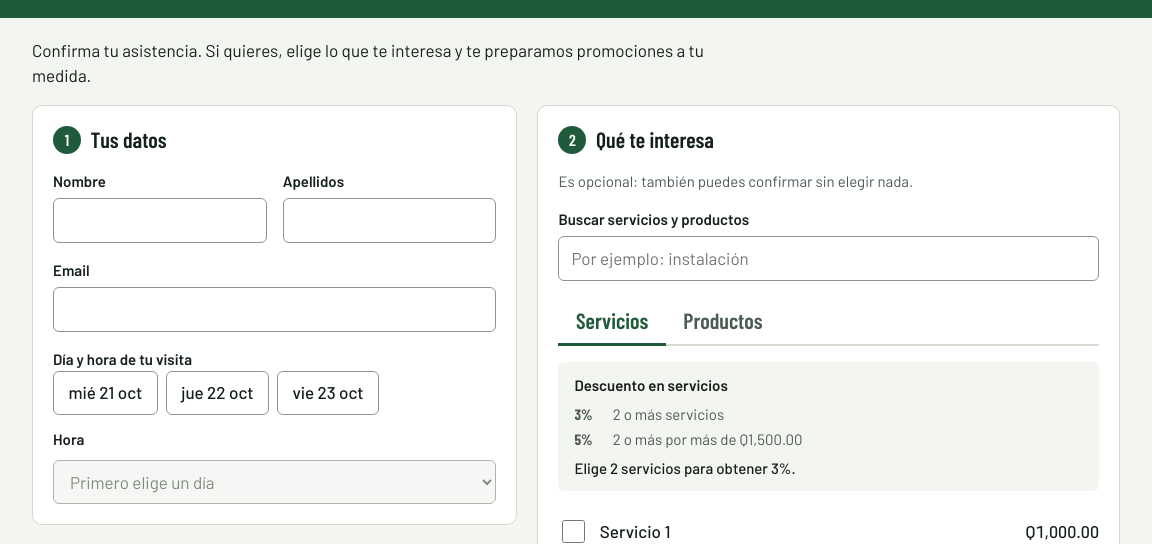
Test: validation › lets the person confirm without choosing any service or product
Type "Ana" into the field labelled "Nombre".
click(160, 220); type("Ana")  # box top-left (53, 198), bottom-right (267, 243)
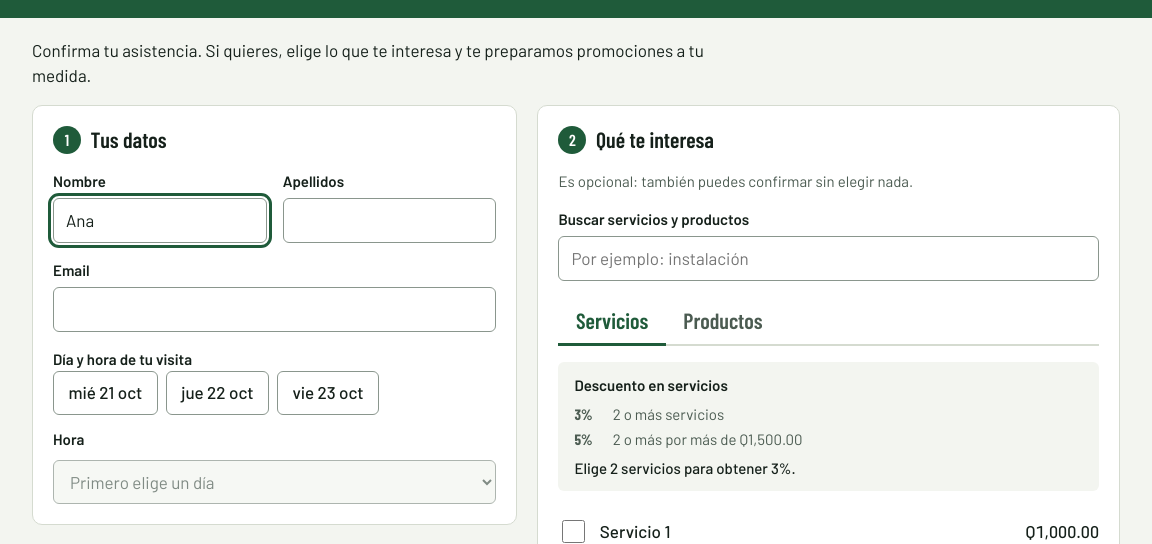
Type "Lopez" into the field labelled "Apellidos".
click(390, 220); type("Lopez")  # box top-left (283, 198), bottom-right (496, 243)
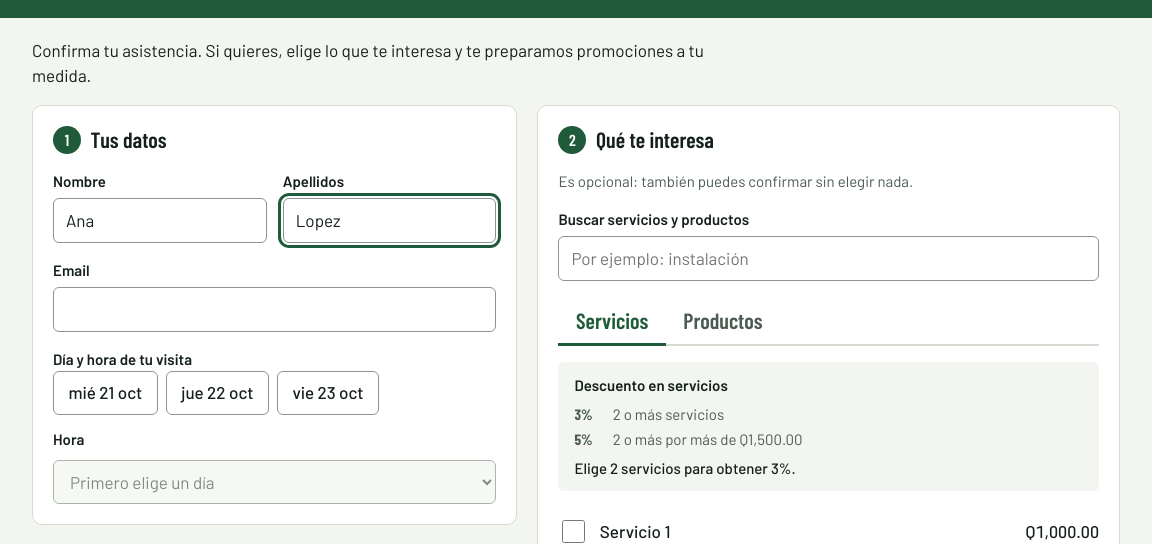
Type "ana@example.com" into the field labelled "Email".
click(275, 310); type("ana@example.com")  # box top-left (53, 287), bottom-right (496, 332)
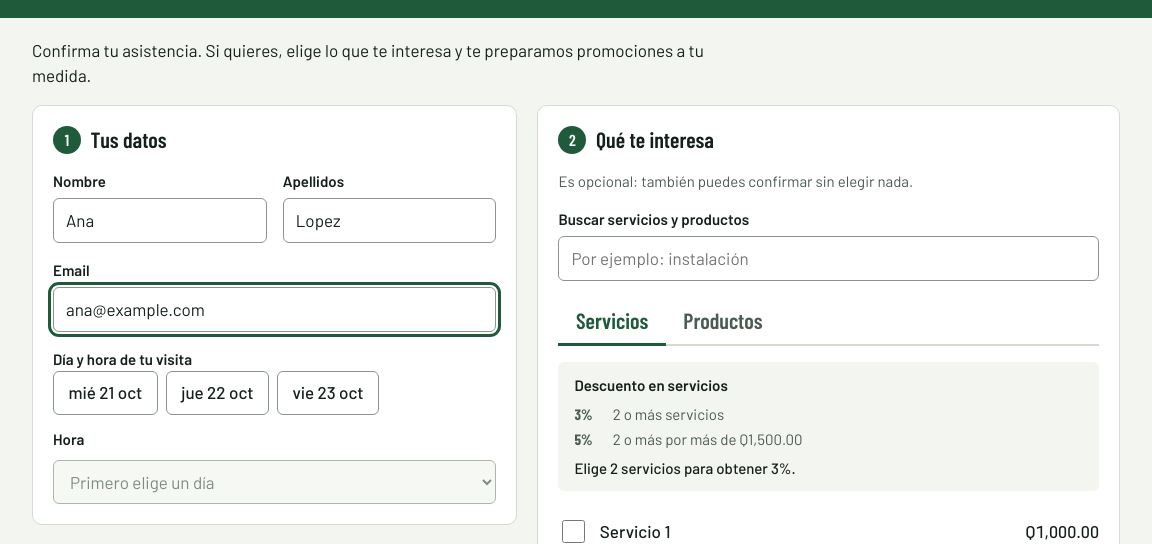
Click the 1st radio button.
click(105, 393)  # box top-left (53, 371), bottom-right (158, 415)
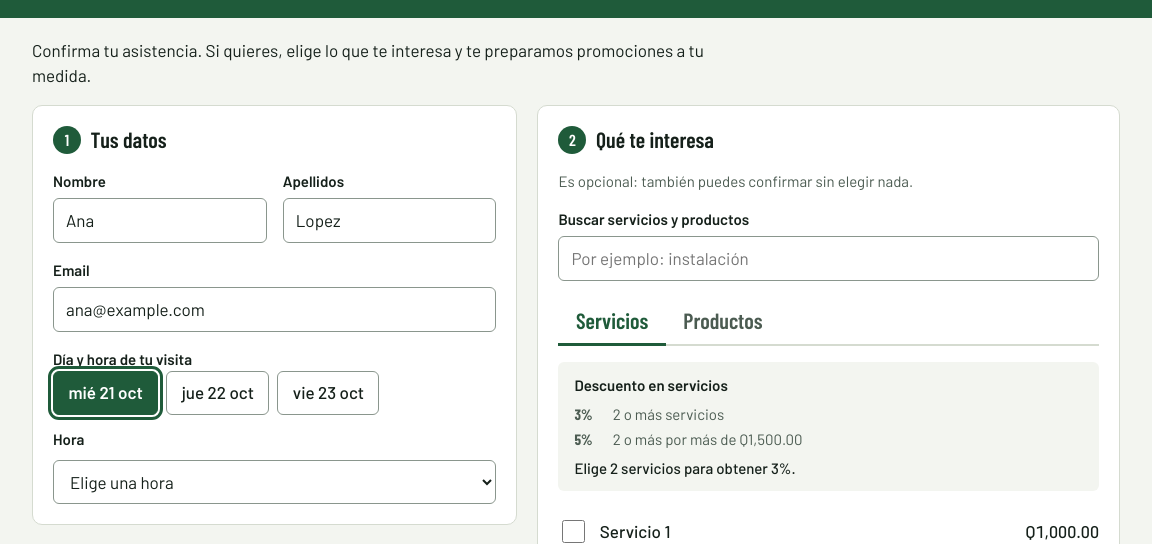
Select "10:00" in the dropdown labelled "Hora" at (275, 482), box top-left (53, 460), bottom-right (496, 504)
(page scrolled)
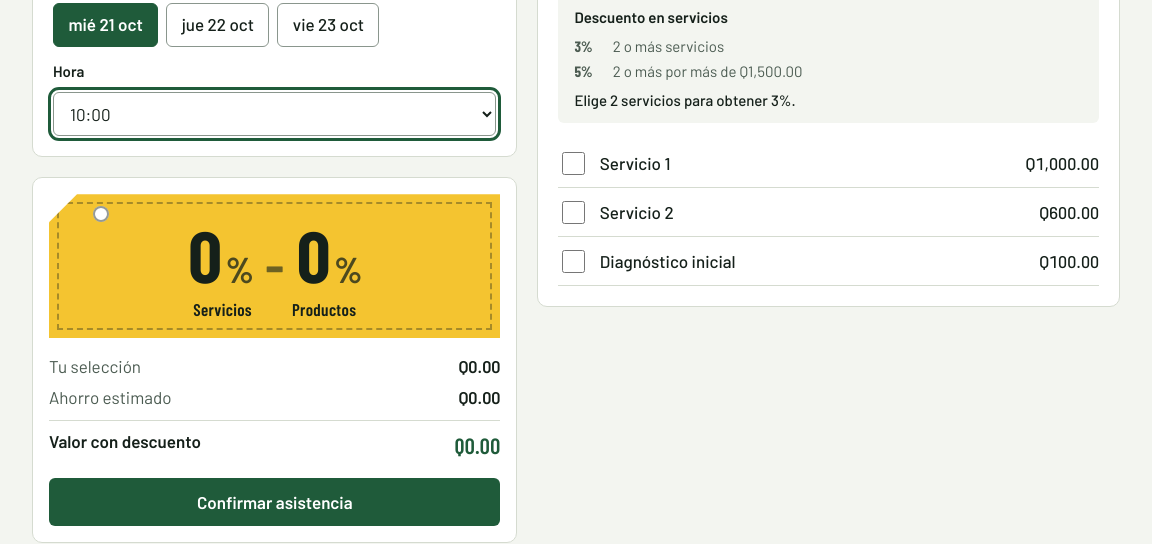
Click the button "Confirmar asistencia".
click(275, 502)  # box top-left (49, 478), bottom-right (500, 526)
(page scrolled)
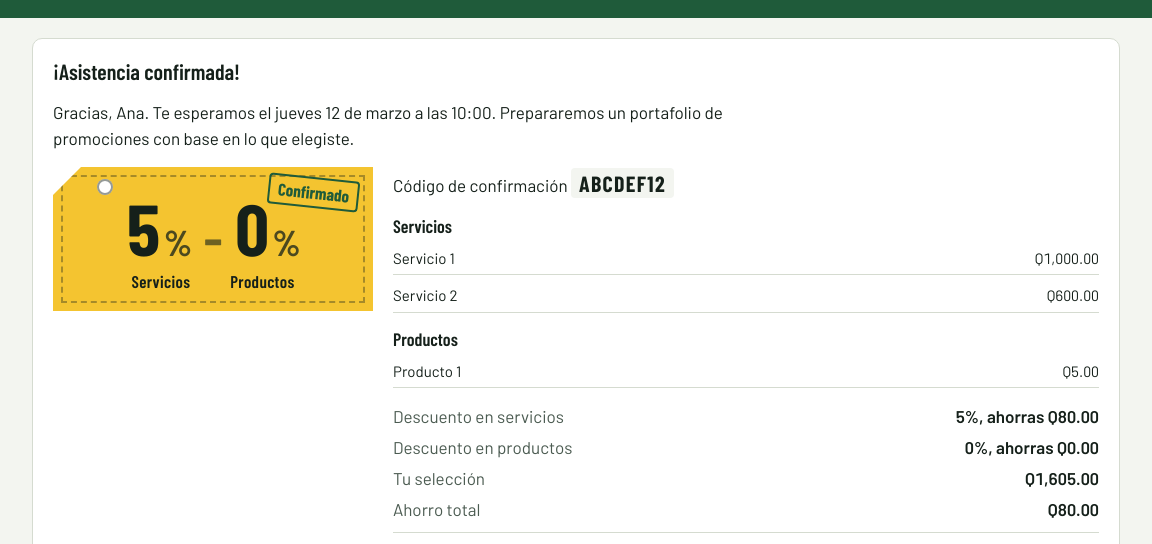
Expected: the heading "¡Asistencia confirmada!" is shown, top-left (53, 58), bottom-right (240, 84)
